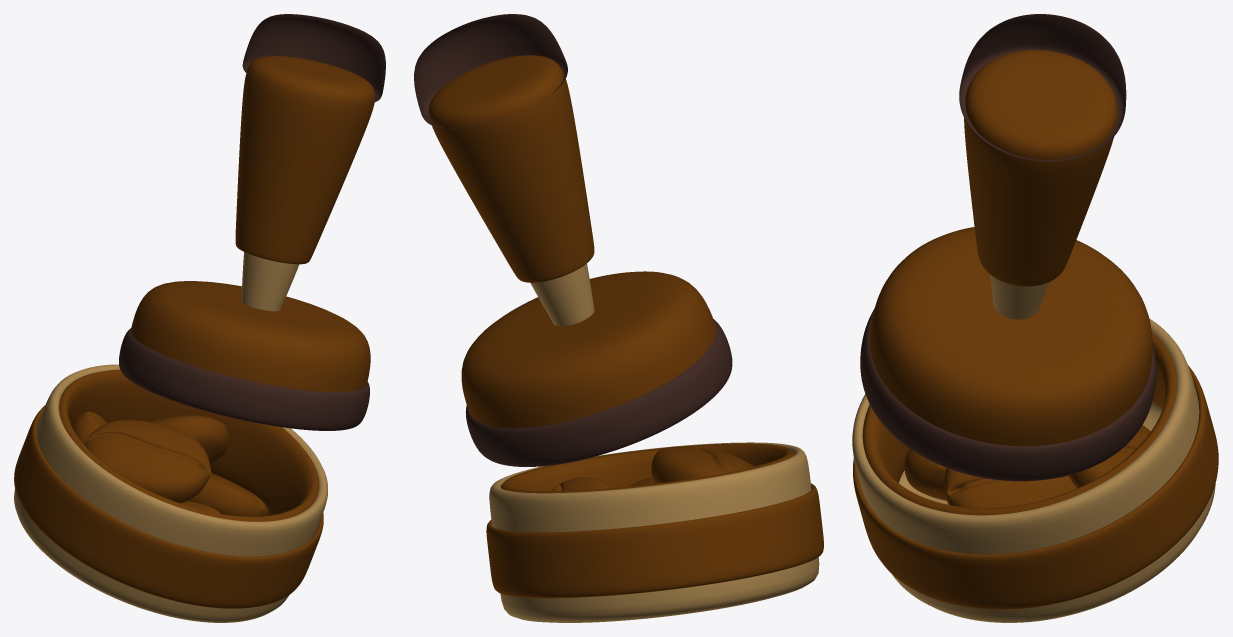
The model's file is coffee-tamper.glb.
3 views of the same model, side by side, from view 1: azimuth 30°, elevation 25°; view 2: azimuth 150°, elevation 25°; view 3: azimuth 270°, elevation 25° (orthographic). The views are drawn at different scales.
Parts seen in each view (by area): view 1: Circle.003, Circle, Cylinder.001, Cylinder.005, Cylinder.002, Circle.001, Cube.013, Circle.002, Circle.004, Cube.009, Cube.003, Cube.001; view 2: Circle, Circle.003, Cylinder.001, Cylinder.005, Circle.001, Circle.002, Cylinder.002, Cube.013, Circle.004, Cube.003; view 3: Circle, Circle.003, Cylinder.005, Cylinder.001, Circle.001, Circle.002, Cylinder.002, Cube.009, Circle.004, Cube.014, Cube.003.
Boxes of the visible parts, left/top/right/bottom form: Circle.003: left=235, top=56, right=375, bottom=264; Circle: left=130, top=281, right=370, bottom=392; Cylinder.001: left=14, top=405, right=323, bottom=608; Cylinder.005: left=14, top=364, right=327, bottom=622; Cylinder.002: left=59, top=369, right=319, bottom=521; Circle.001: left=119, top=328, right=369, bottom=430; Cube.013: left=85, top=420, right=211, bottom=503; Circle.002: left=242, top=14, right=385, bottom=104; Circle.004: left=241, top=252, right=299, bottom=311; Cube.009: left=188, top=473, right=268, bottom=516; Cube.003: left=150, top=415, right=229, bottom=465; Cube.001: left=71, top=411, right=107, bottom=444; Circle: left=461, top=271, right=716, bottom=428; Circle.003: left=428, top=55, right=594, bottom=282; Cylinder.001: left=486, top=483, right=823, bottom=598; Cylinder.005: left=489, top=442, right=819, bottom=622; Circle.001: left=465, top=319, right=732, bottom=466; Circle.002: left=414, top=14, right=567, bottom=128; Cylinder.002: left=500, top=443, right=795, bottom=493; Cube.013: left=651, top=446, right=753, bottom=483; Circle.004: left=530, top=263, right=594, bottom=326; Cube.003: left=551, top=477, right=611, bottom=490; Circle: left=869, top=227, right=1152, bottom=446; Circle.003: left=964, top=50, right=1117, bottom=286; Cylinder.005: left=852, top=318, right=1215, bottom=622; Cylinder.001: left=853, top=365, right=1218, bottom=609; Circle.001: left=860, top=309, right=1156, bottom=481; Circle.002: left=959, top=14, right=1126, bottom=161; Cylinder.002: left=862, top=332, right=1176, bottom=515; Cube.009: left=944, top=468, right=1076, bottom=508; Circle.004: left=990, top=275, right=1048, bottom=319; Cube.014: left=904, top=449, right=946, bottom=500; Cube.003: left=1068, top=425, right=1150, bottom=488.
Size of the model in its own units: 1.69 by 2.48 by 1.33.
